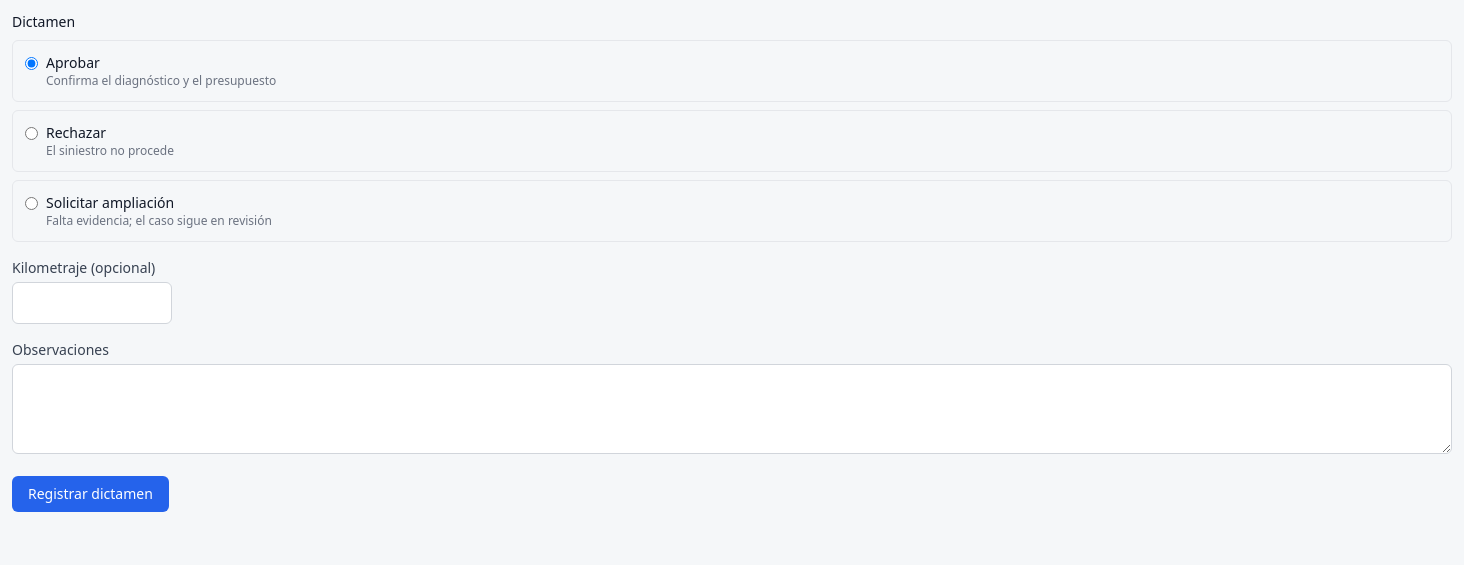
Test case: VerdictForm › debería RECHAZAR sin observaciones (validación)
Click the radio button labelled "Rechazar El siniestro no procede".
click(32, 134)  # box top-left (25, 127), bottom-right (38, 140)
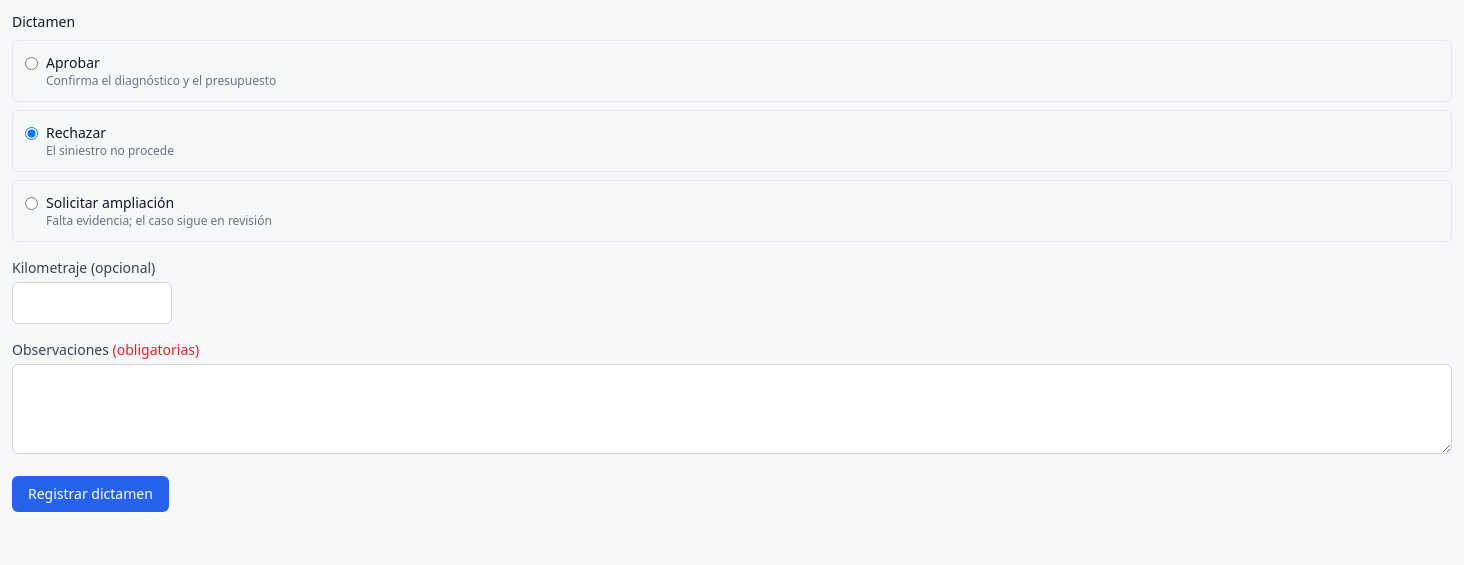
Click the button "Registrar dictamen".
click(90, 494)  # box top-left (12, 476), bottom-right (169, 512)
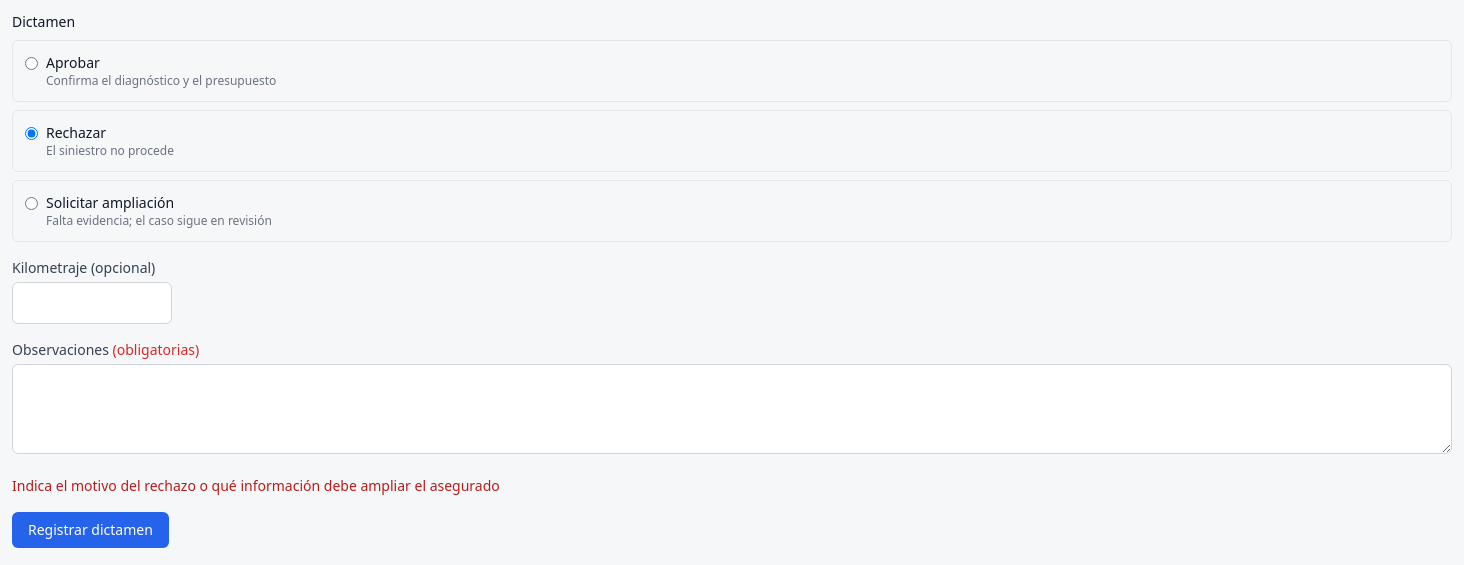
Result: the message shows "motivo del rechazo" at top-left (12, 476), bottom-right (500, 495)
